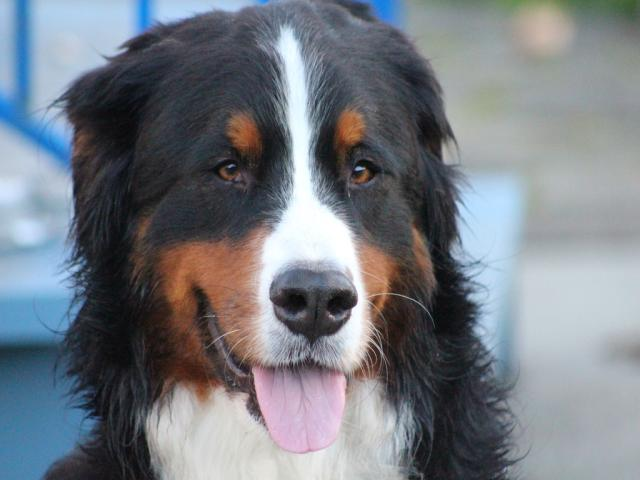Dog: (22, 0, 538, 480)
